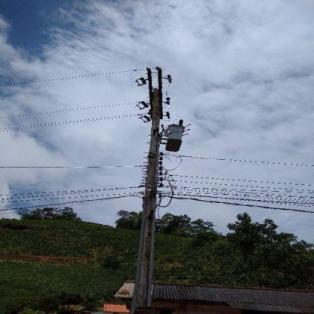Poste: (127, 88, 164, 314)
